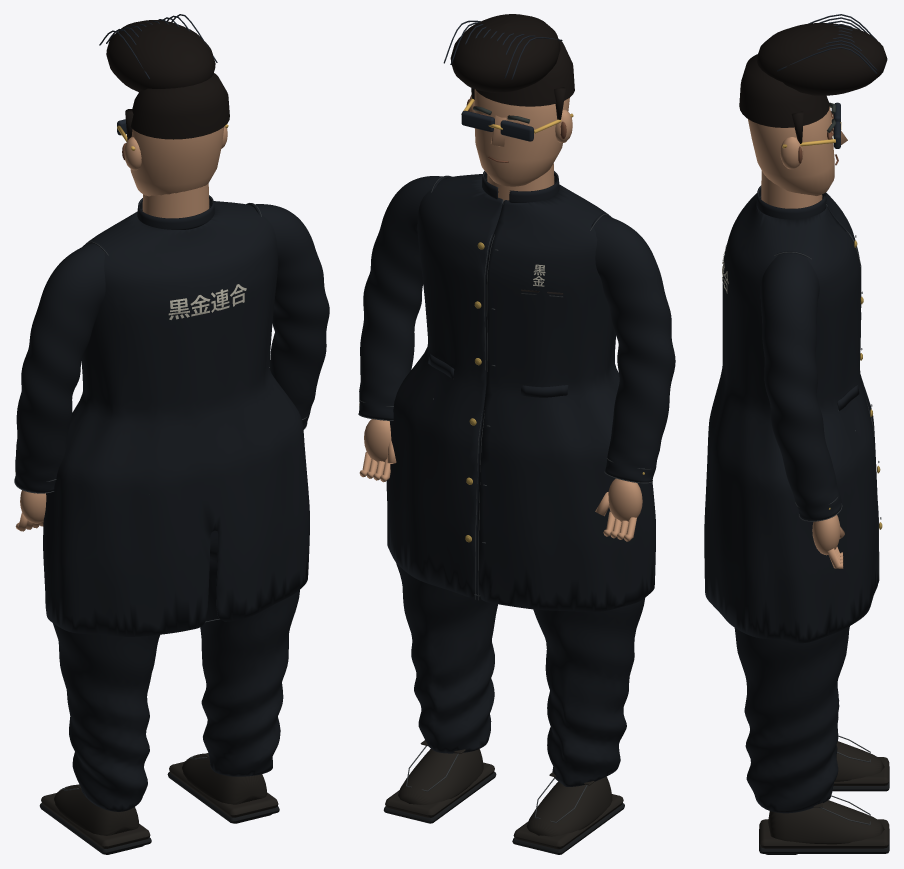
3 renders of one model, left to right at view 1: azimuth 30°, elevation 25°; view 2: azimuth 150°, elevation 25°; view 3: azimuth 270°, elevation 25°, orthographic.
Visible parts, largest first — view 1: YB_V2_Tailored coat shell, YB_V2_Sewn high waist bontan, YB_V2_Set in shaped sleeve, YB_V2_Set in shaped sleeve.001, YB_Pompadour_ClothingV2, YB_SlickHair_ClothingV2, YB_Face_ClothingV2, YB_V2_Shaped loafer leather.001, YB_V2_Shaped loafer leather, YB_Neck_ClothingV2, YB_V2_Loafer welt.001, YB_V2_Loafer welt (+5 smaller); view 2: YB_V2_Tailored coat shell, YB_V2_Sewn high waist bontan, YB_V2_Set in shaped sleeve, YB_V2_Set in shaped sleeve.001, YB_Pompadour_ClothingV2, YB_Face_ClothingV2, YB_V2_Shaped loafer leather, YB_V2_Shaped loafer leather.001, YB_SlickHair_ClothingV2, YB_V2_Relaxed palm, YB_V2_Loafer welt, YB_V2_Loafer welt.001 (+5 smaller); view 3: YB_V2_Tailored coat shell, YB_V2_Sewn high waist bontan, YB_V2_Set in shaped sleeve.001, YB_Pompadour_ClothingV2, YB_Face_ClothingV2, YB_SlickHair_ClothingV2, YB_V2_Shaped loafer leather.001, YB_V2_Loafer welt.001, YB_V2_Shaped loafer leather, YB_Neck_ClothingV2, YB_V2_Low standing collar, YB_V2_Relaxed palm.001 (+3 smaller).
Boxes of the visible parts, <box> form: YB_V2_Tailored coat shell: <box>43,201,309,636</box>; YB_V2_Sewn high waist bontan: <box>53,530,299,811</box>; YB_V2_Set in shaped sleeve: <box>15,241,107,492</box>; YB_V2_Set in shaped sleeve.001: <box>246,203,329,428</box>; YB_Pompadour_ClothingV2: <box>106,20,215,91</box>; YB_SlickHair_ClothingV2: <box>130,73,229,139</box>; YB_Face_ClothingV2: <box>130,127,224,196</box>; YB_V2_Shaped loafer leather.001: <box>182,753,266,804</box>; YB_V2_Shaped loafer leather: <box>54,784,139,835</box>; YB_Neck_ClothingV2: <box>142,183,209,218</box>; YB_V2_Loafer welt.001: <box>169,761,278,817</box>; YB_V2_Loafer welt: <box>41,793,150,848</box>; YB_V2_Tailored coat shell: <box>386,174,655,611</box>; YB_V2_Sewn high waist bontan: <box>396,563,644,786</box>; YB_V2_Set in shaped sleeve: <box>591,213,675,482</box>; YB_V2_Set in shaped sleeve.001: <box>359,176,451,420</box>; YB_Pompadour_ClothingV2: <box>450,14,560,92</box>; YB_Face_ClothingV2: <box>474,89,569,186</box>; YB_V2_Shaped loafer leather: <box>526,776,612,836</box>; YB_V2_Shaped loafer leather.001: <box>398,749,483,804</box>; YB_SlickHair_ClothingV2: <box>476,40,574,106</box>; YB_V2_Relaxed palm: <box>608,478,642,521</box>; YB_V2_Loafer welt: <box>513,794,623,849</box>; YB_V2_Loafer welt.001: <box>385,762,494,817</box>; YB_V2_Tailored coat shell: <box>704,192,878,643</box>; YB_V2_Sewn high waist bontan: <box>734,626,849,813</box>; YB_V2_Set in shaped sleeve.001: <box>760,251,841,520</box>; YB_Pompadour_ClothingV2: <box>756,23,887,95</box>; YB_Face_ClothingV2: <box>748,106,834,195</box>; YB_SlickHair_ClothingV2: <box>739,54,829,127</box>; YB_V2_Shaped loafer leather.001: <box>768,800,884,844</box>; YB_V2_Loafer welt.001: <box>759,819,889,848</box>; YB_V2_Shaped loafer leather: <box>834,741,884,781</box>; YB_Neck_ClothingV2: <box>761,171,822,208</box>; YB_V2_Low standing collar: <box>756,185,826,219</box>; YB_V2_Relaxed palm.001: <box>812,515,840,555</box>.
Bounding box in the file's own units: 0.7204 × 1.78 × 0.3815.
